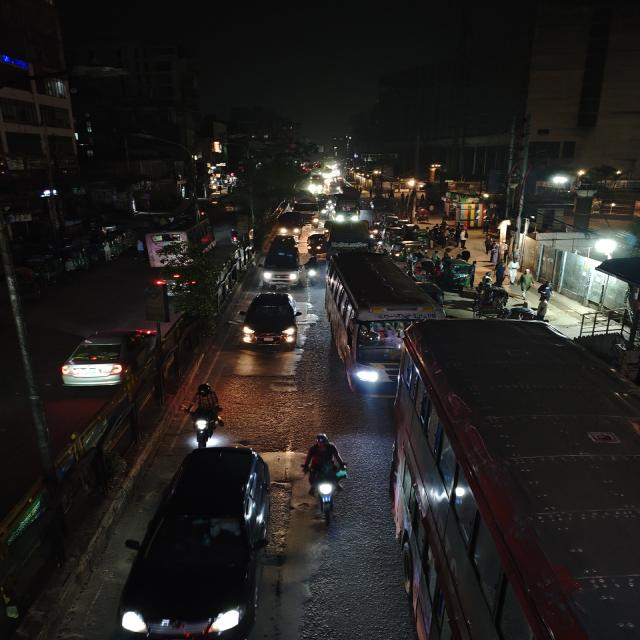bus: (393, 320, 639, 640), (321, 250, 440, 394), (144, 216, 215, 276), (330, 192, 361, 226)
car: (57, 324, 158, 390), (238, 289, 300, 351), (261, 235, 304, 288), (274, 209, 306, 236)
cng: (120, 445, 276, 640), (306, 231, 330, 255)
motorcycle: (298, 432, 351, 522), (180, 382, 226, 446), (303, 254, 320, 285)
pedestrian: (534, 293, 554, 321), (517, 269, 534, 295), (536, 280, 556, 302)
truck: (295, 190, 316, 225)
